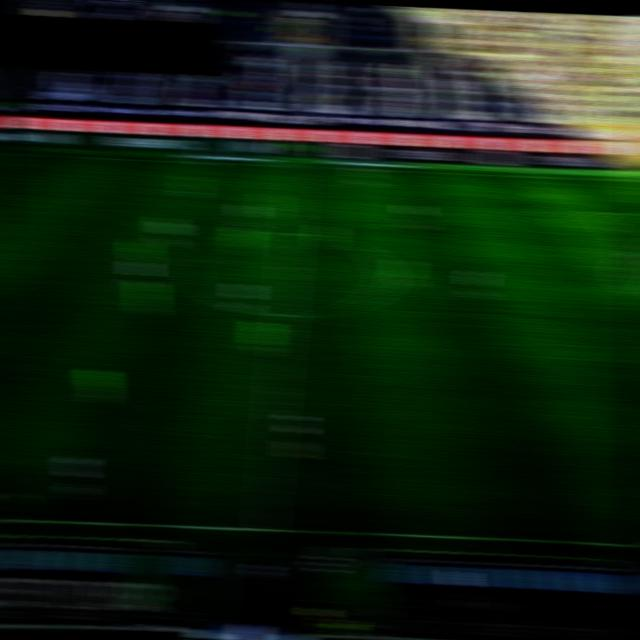bigarea_top_inner: (581, 204, 614, 222)
halfcircle_bottom: (273, 308, 298, 319)
halfcircle_top: (280, 225, 305, 237)
midline_bottom_intersection: (253, 520, 279, 536)
midline_top_intersection: (286, 159, 310, 171)
top_arc_area_intersection: (622, 247, 640, 258)
